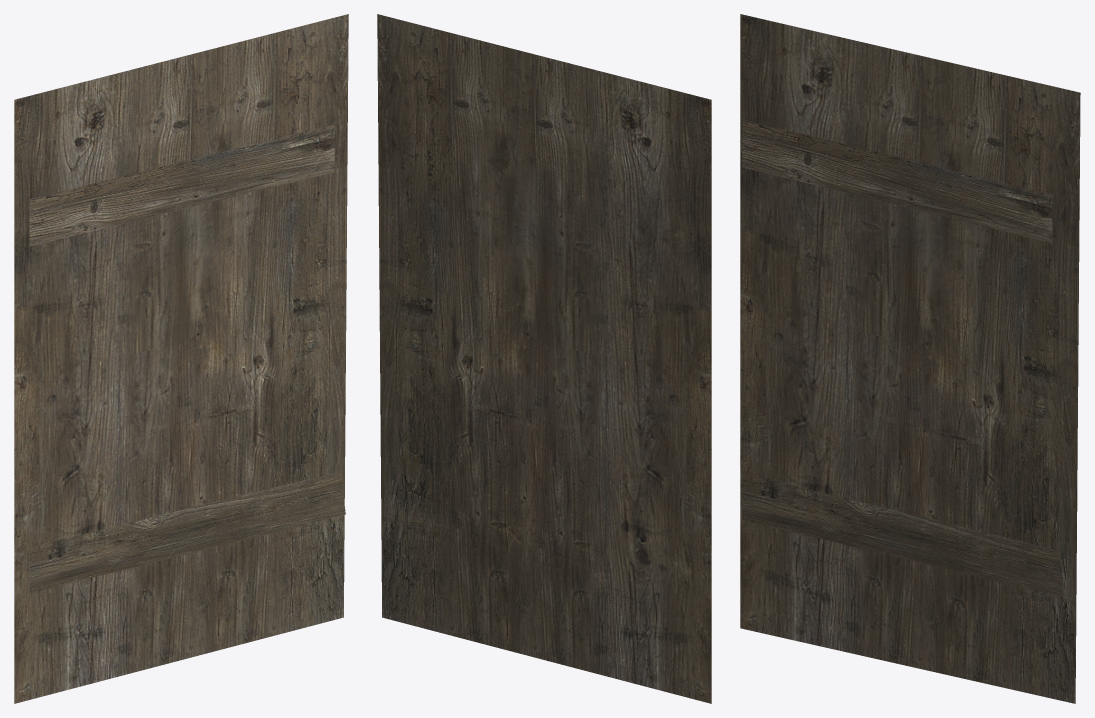
File: House_11_window_LOD2.fbx
3 views of the same model, side by side, from view 1: azimuth 30°, elevation 25°; view 2: azimuth 150°, elevation 25°; view 3: azimuth 330°, elevation 25° (orthographic).
Parts seen in each view (by area): view 1: polySurface3106; view 2: polySurface3106; view 3: polySurface3106.
Part boxes in pixels (box(x1,y1,x2,y2)): polySurface3106: box(14, 14, 348, 703); polySurface3106: box(377, 14, 711, 703); polySurface3106: box(740, 14, 1080, 703).
Size of the model in its own units: 0.942 by 1.64 by 0.0336.
